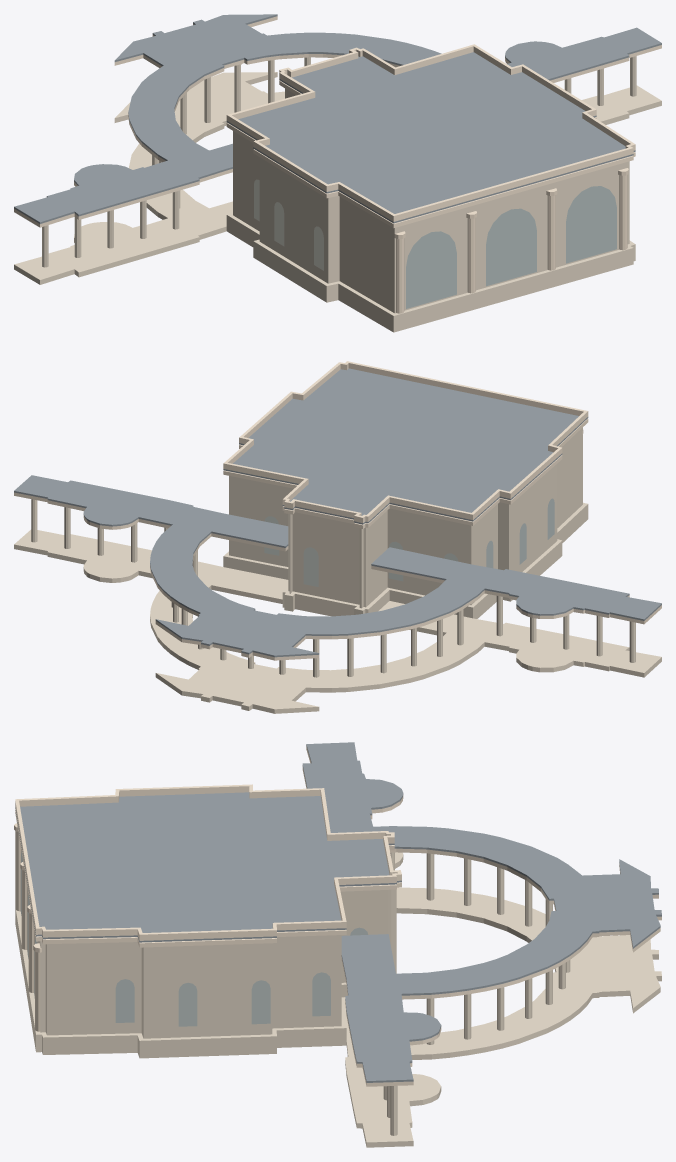
3 views of the same model, one above another, from view 1: azimuth 30°, elevation 25°; view 2: azimuth 150°, elevation 25°; view 3: azimuth 270°, elevation 25° (orthographic). The views are drawn at different scales.
Visible parts, largest first — view 1: roof, stone, trim, window; view 2: roof, stone, trim, window; view 3: roof, stone, trim, window.
Part boxes in pixels (x1,y1,x2,y2): roof: [14, 14, 661, 223]; stone: [14, 56, 661, 332]; trim: [14, 16, 661, 313]; window: [254, 179, 616, 308]; roof: [14, 368, 661, 657]; stone: [14, 427, 661, 713]; trim: [14, 361, 661, 660]; window: [264, 498, 554, 586]; roof: [15, 742, 661, 1082]; stone: [15, 849, 661, 1147]; trim: [14, 746, 661, 1086]; window: [20, 851, 368, 1026].
Size of the model in its own units: 76.38 by 13 by 61.72.
